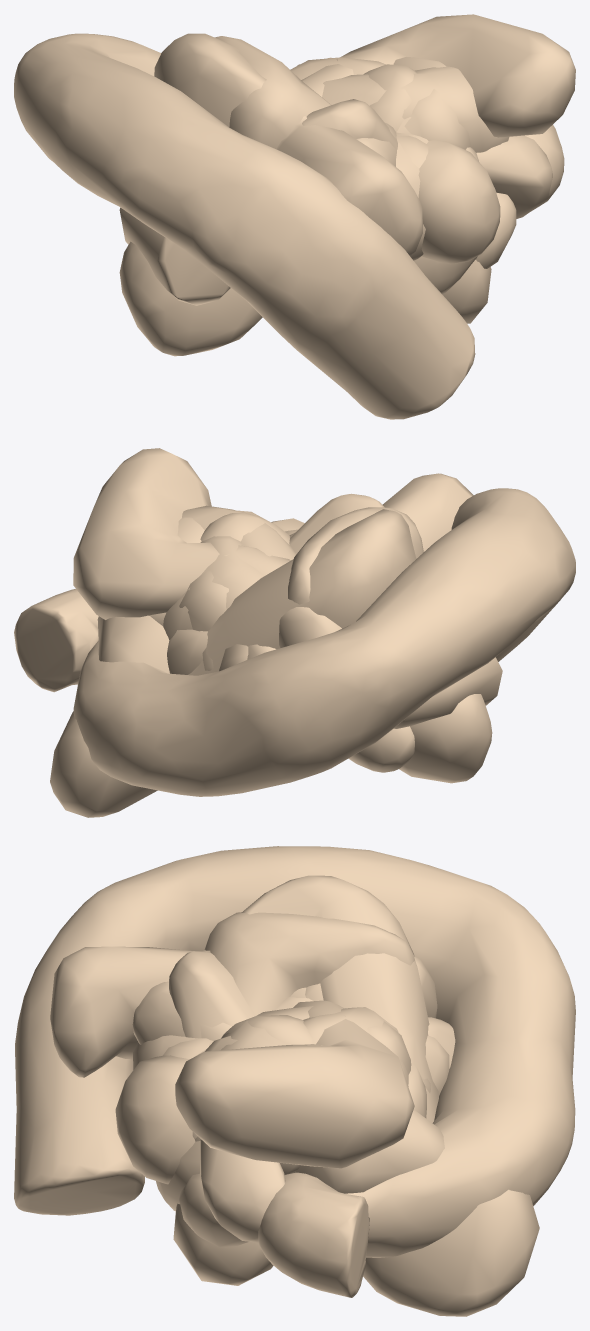
The model's file is atlas_small_intestine.glb.
3 views of the same model, one above another, from view 1: azimuth 30°, elevation 25°; view 2: azimuth 150°, elevation 25°; view 3: azimuth 270°, elevation 25° (orthographic). The views are drawn at different scales.
Parts seen in each view (by area): view 1: duodenum, proximal part of jejunum (×3), proximal part of ileum (×3), distal part of jejunum (×3), middle part of jejunum (×3), distal part of ileum, middle part of ileum, ileocecal junction; view 2: duodenum, proximal part of jejunum (×3), distal part of jejunum (×3), proximal part of ileum (×3), middle part of jejunum (×3), middle part of ileum (×2), distal part of ileum; view 3: duodenum, distal part of jejunum (×3), proximal part of jejunum (×3), proximal part of ileum (×3), middle part of jejunum (×3), distal part of ileum (×2), ileocecal junction, middle part of ileum.
Boxes of the visible parts, x1,y1,x2,y2 form: duodenum: [14, 33, 564, 419]; proximal part of jejunum (×3): [119, 14, 575, 356]; proximal part of ileum (×3): [215, 36, 509, 323]; distal part of jejunum (×3): [154, 33, 428, 260]; middle part of jejunum (×3): [363, 64, 470, 168]; distal part of ileum: [476, 192, 516, 268]; middle part of ileum: [414, 189, 495, 294]; ileocecal junction: [356, 123, 396, 166]; duodenum: [14, 488, 575, 796]; proximal part of jejunum (×3): [73, 448, 502, 783]; distal part of jejunum (×3): [50, 473, 473, 817]; proximal part of ileum (×3): [182, 505, 423, 772]; middle part of jejunum (×3): [179, 513, 297, 671]; middle part of ileum (×2): [177, 517, 341, 647]; distal part of ileum: [167, 629, 207, 674]; duodenum: [14, 846, 575, 1297]; distal part of jejunum (×3): [50, 875, 539, 1316]; proximal part of jejunum (×3): [175, 1000, 414, 1242]; proximal part of ileum (×3): [115, 912, 455, 1285]; middle part of jejunum (×3): [163, 1015, 449, 1095]; distal part of ileum (×2): [179, 987, 426, 1247]; ileocecal junction: [132, 981, 231, 1044]; middle part of ileum: [156, 956, 437, 1211].
Size of the model in its own units: 3209652 by 1886654 by 2998072.
